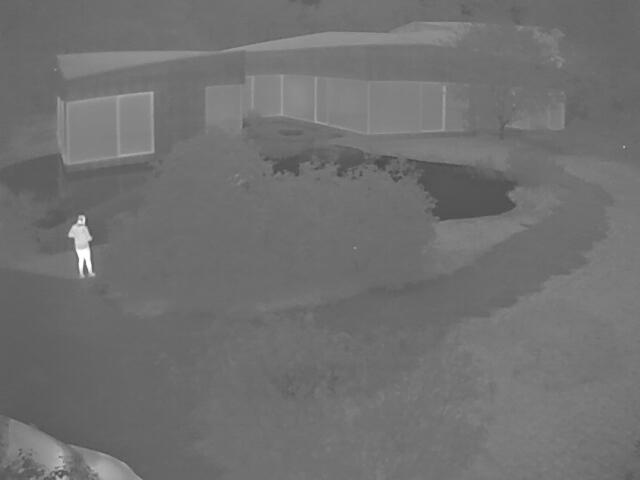person: (67, 214, 96, 275)
